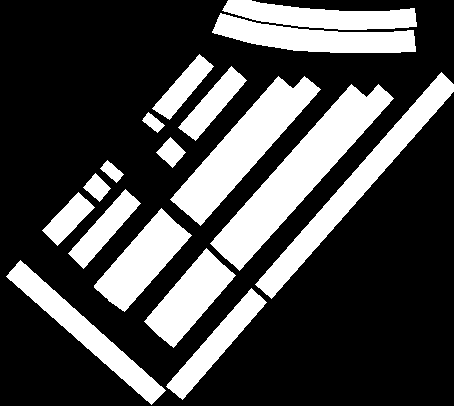parkingspot: (255, 72, 454, 298), (224, 84, 393, 270), (210, 84, 367, 258), (6, 260, 165, 404), (184, 76, 320, 225), (170, 76, 294, 212), (166, 288, 266, 399), (212, 13, 415, 52), (94, 208, 176, 300), (108, 222, 191, 311), (144, 248, 221, 335), (157, 262, 235, 347), (68, 189, 140, 268), (222, 0, 416, 29), (178, 66, 246, 140), (152, 54, 213, 119), (42, 192, 94, 245), (156, 137, 185, 167), (83, 173, 110, 201), (100, 160, 123, 182), (142, 112, 164, 132)
